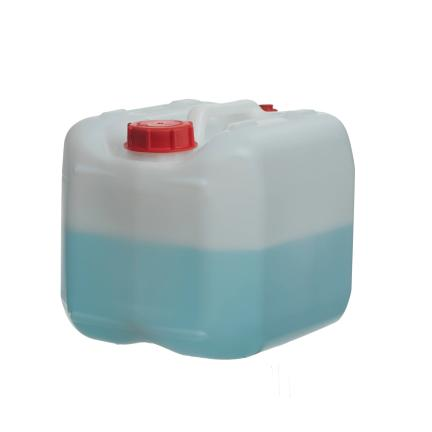container: (61, 99, 355, 359)
fluid: (61, 224, 353, 358)
fluid-surface: (64, 194, 352, 250)
